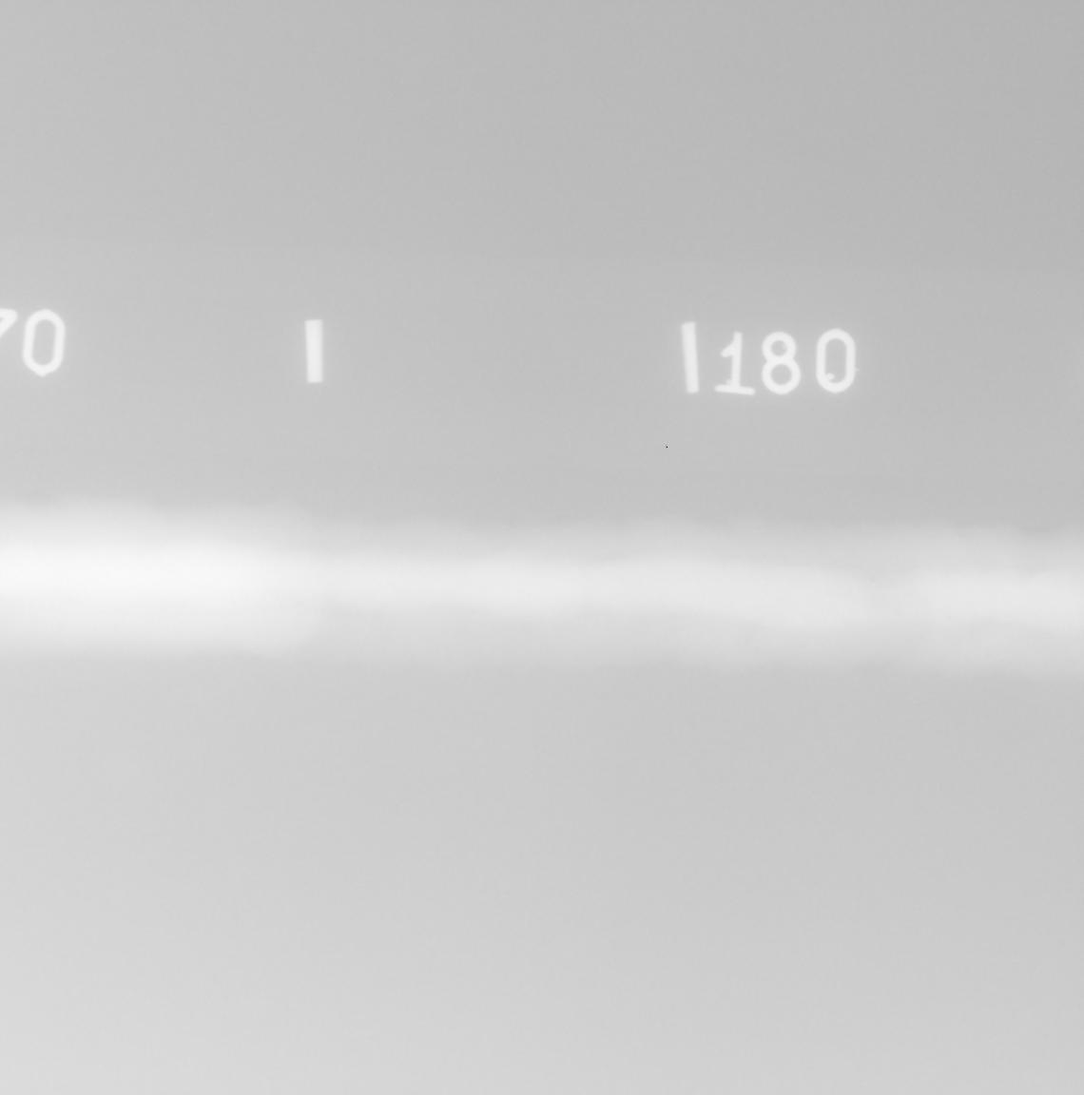Pore/Porosity: (869, 577, 877, 583), (745, 639, 750, 646), (948, 614, 953, 620)
